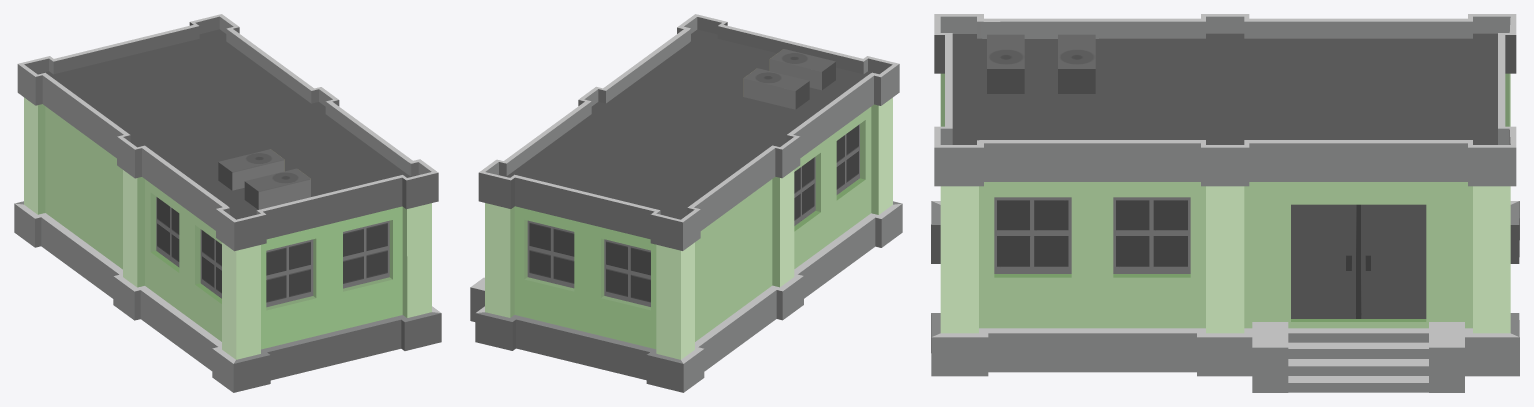
File: factory_1.glb
3 views of the same model, side by side, from view 1: azimuth 30°, elevation 25°; view 2: azimuth 150°, elevation 25°; view 3: azimuth 270°, elevation 25° (orthographic). The views are drawn at different scales.
Visible parts, largest first — view 1: factory_small_mesh; view 2: factory_small_mesh; view 3: factory_small_mesh.
Boxes of the visible parts, <box> form: factory_small_mesh: <box>14,14,441,392</box>; factory_small_mesh: <box>470,14,902,392</box>; factory_small_mesh: <box>931,14,1519,392</box>.
Size of the model in its own units: 0.1018 by 0.0729 by 0.1654.
Materials: 1 (1 with a texture image).
